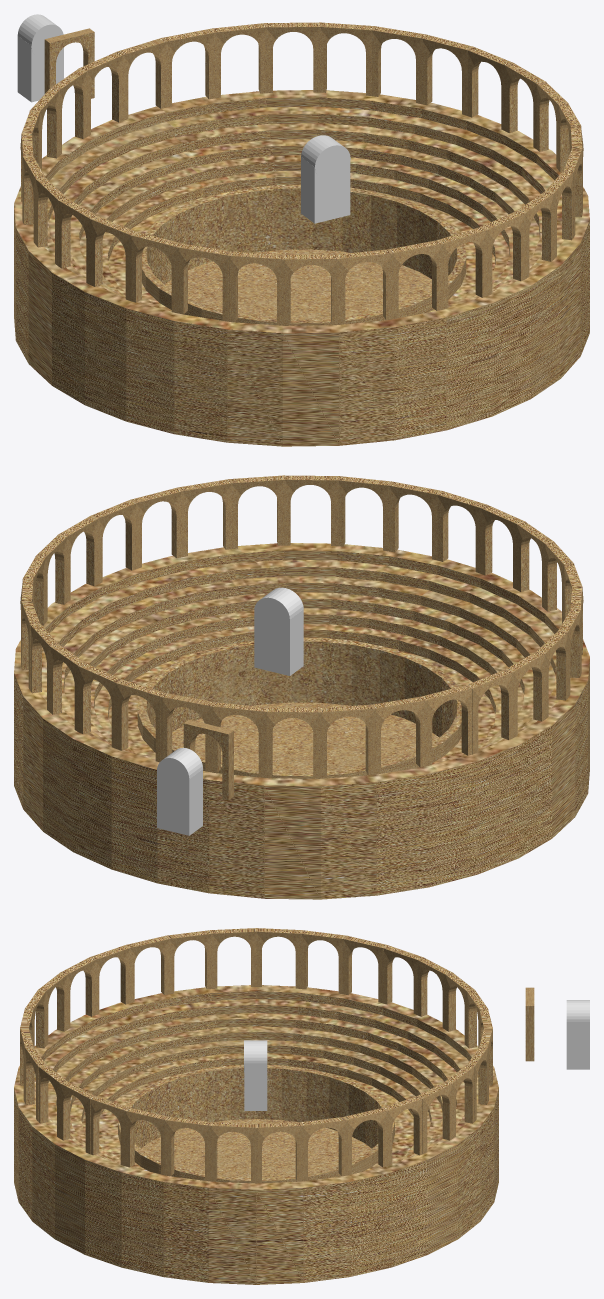
Rendered from Arena.fbx.
3 views of the same model, one above another, from view 1: azimuth 30°, elevation 25°; view 2: azimuth 150°, elevation 25°; view 3: azimuth 270°, elevation 25° (orthographic). The views are drawn at different scales.
Parts seen in each view (by area): view 1: Arena, Arch.001, ArchHole2.001, 立方体.002, ArchHole1.001, Arch, 円柱.002; view 2: Arena, Arch.001, ArchHole2.001, 立方体.002, Arch, ArchHole1.001, 円柱.002; view 3: Arena, Arch.001, 立方体.002, ArchHole2.001, Arch, ArchHole1.001, 円柱.002.
Part boxes in pixels (box(x1,y1,x2,y2)): Arena: box(14, 90, 589, 446); Arch.001: box(20, 22, 583, 325); ArchHole2.001: box(301, 157, 350, 223); 立方体.002: box(17, 36, 63, 102); ArchHole1.001: box(301, 135, 350, 180); Arch: box(44, 28, 94, 98); 円柱.002: box(17, 14, 63, 59); Arena: box(14, 543, 589, 899); Arch.001: box(20, 475, 583, 778); ArchHole2.001: box(254, 610, 303, 675); 立方体.002: box(157, 769, 202, 835); Arch: box(183, 719, 233, 799); ArchHole1.001: box(254, 587, 303, 632); 円柱.002: box(157, 747, 203, 792); Arena: box(14, 985, 498, 1284); Arch.001: box(20, 928, 492, 1183); 立方体.002: box(566, 1022, 589, 1069); ArchHole2.001: box(244, 1064, 267, 1110); Arch: box(525, 987, 534, 1061); ArchHole1.001: box(244, 1040, 267, 1071); 円柱.002: box(566, 1000, 589, 1022).
Bounding box in the file's own units: 11120 × 3975 × 13208.
Materials: 3 (3 with a texture image).
